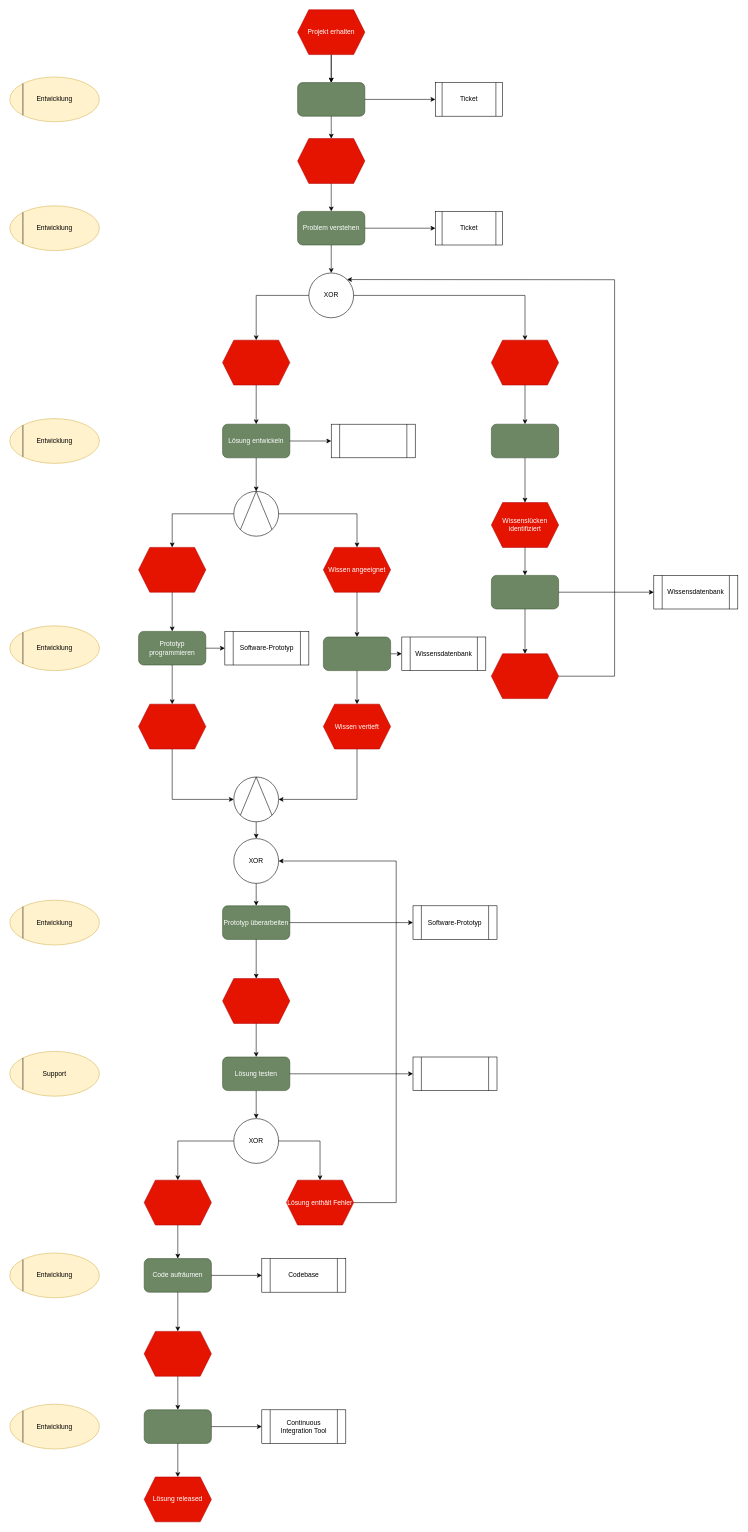
Image size: 748x1532. Some labels were removed from this diagram. Here are the shapes that lost their labels. From the top down, the centre of each, then its label:
point (331, 99): Projekt annehmen
point (331, 160): Projekt angenommen
point (256, 362): Problem verstanden
point (525, 362): Problem nicht verstanden
point (373, 441): Konzeptplan
point (525, 441): Wissenslücken identifizieren
point (172, 569): Lösung entwickelt
point (525, 592): Wissenlücken ausgleichen
point (357, 653): Wissen vertiefen
point (525, 676): Wissenslücken ausgeglichen
point (172, 726): Prototyp entwickelt
point (256, 1000): Prototyp überarbeitet
point (454, 1073): Test-Framework
point (177, 1202): Lösung fehlerfrei
point (177, 1353): Code aufgeräumt
point (177, 1426): Lösung releasen
